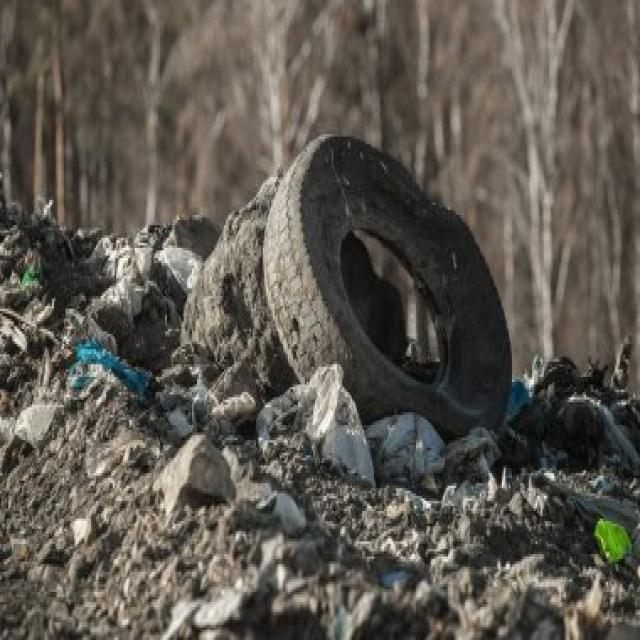garbage: (28, 117, 596, 616)
